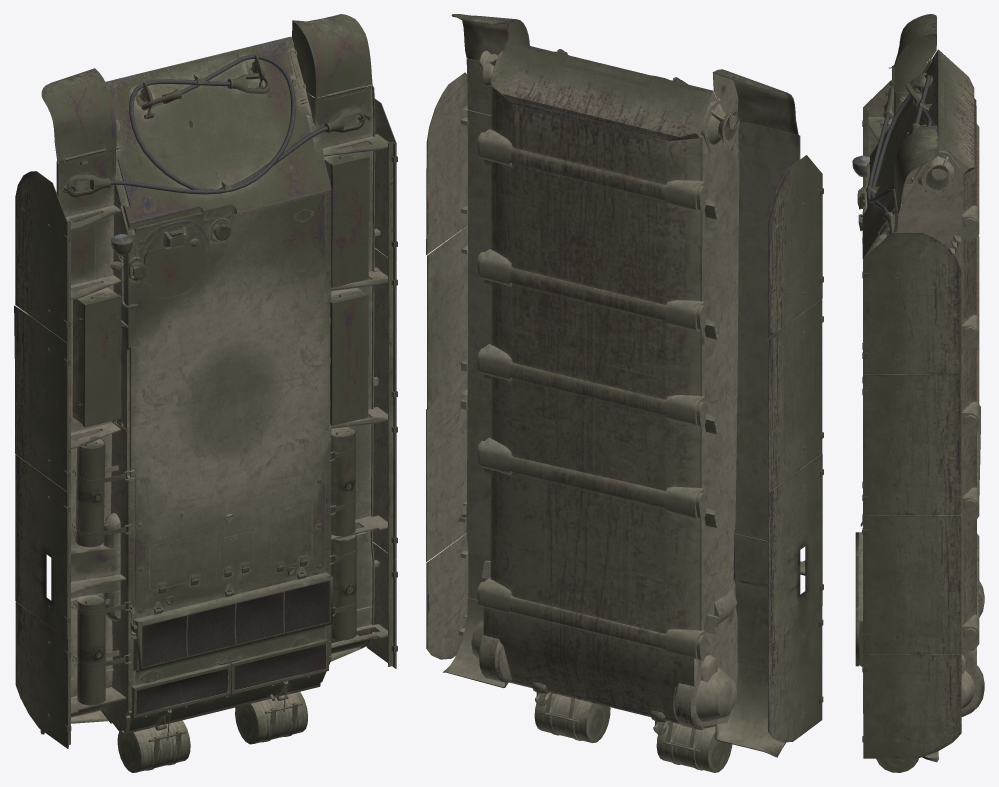
Rendered from Hull.glb.
3 views of the same model, side by side, from view 1: azimuth 30°, elevation 25°; view 2: azimuth 150°, elevation 25°; view 3: azimuth 270°, elevation 25° (orthographic). The views are drawn at different scales.
Parts seen in each view (by area): view 1: set_0_group_0; view 2: set_0_group_0; view 3: set_0_group_0.
Part boxes in pixels (bbox=[...]): set_0_group_0: bbox=[14, 14, 397, 772]; set_0_group_0: bbox=[426, 14, 823, 772]; set_0_group_0: bbox=[852, 14, 984, 772].
Size of the model in its own units: 3.26 by 6.5 by 1.19.
Materials: 1 (1 with a texture image).
